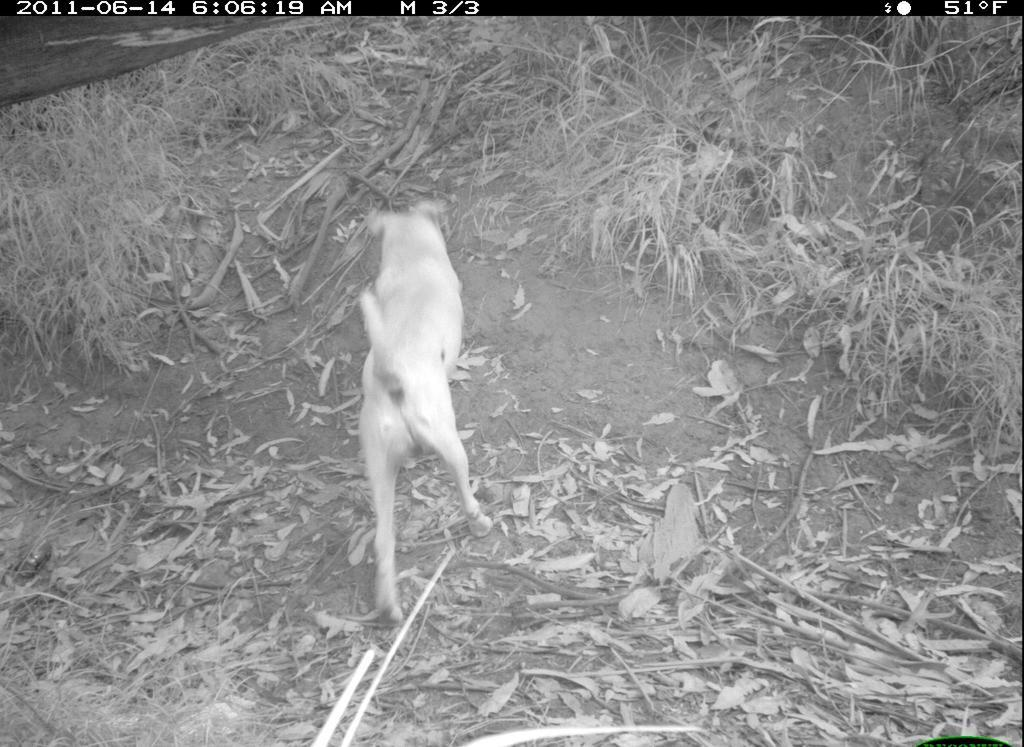dog: (353, 195, 500, 632)
